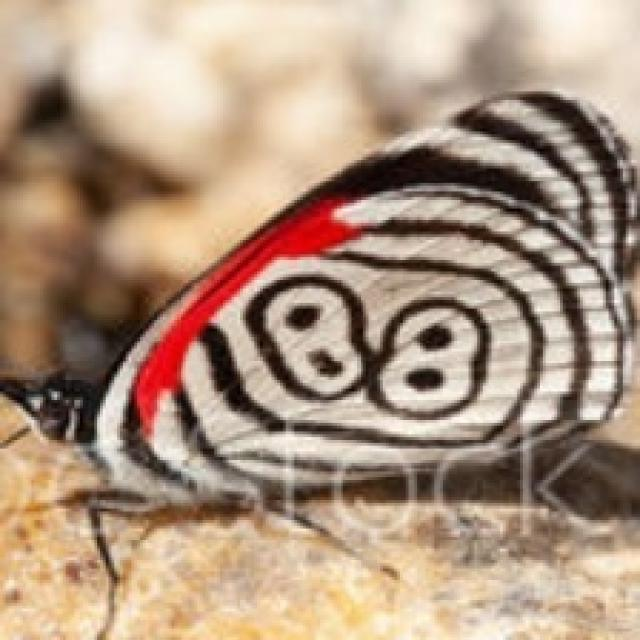butterfly: (0, 83, 637, 637)
